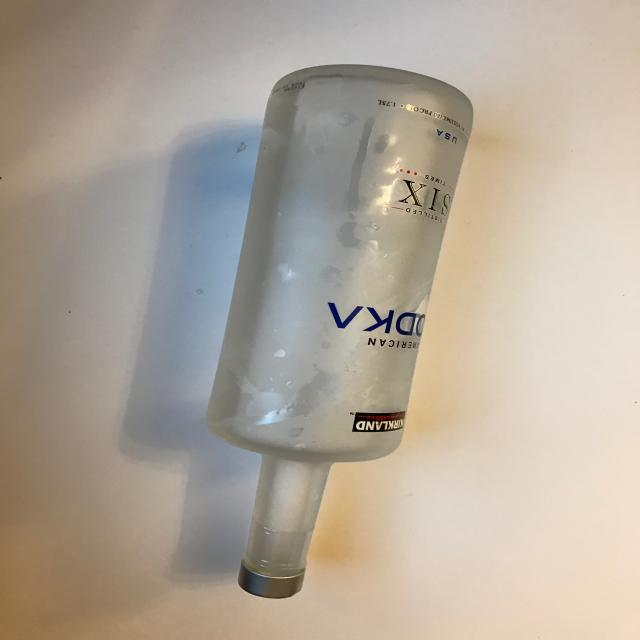glass: (204, 63, 474, 598)
